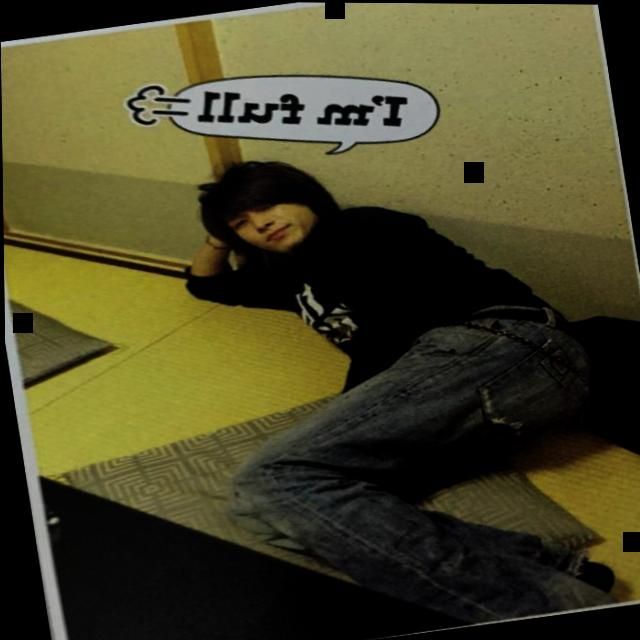Fall-Detected: (155, 105, 640, 639)
